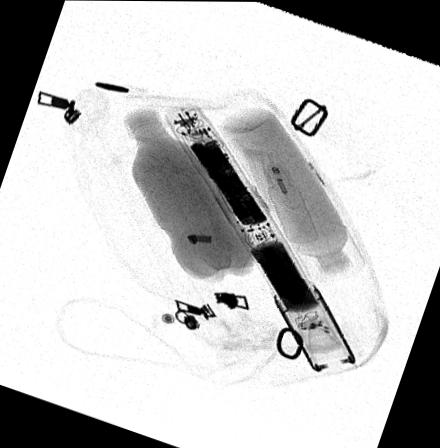Baton: (164, 103, 357, 373)
